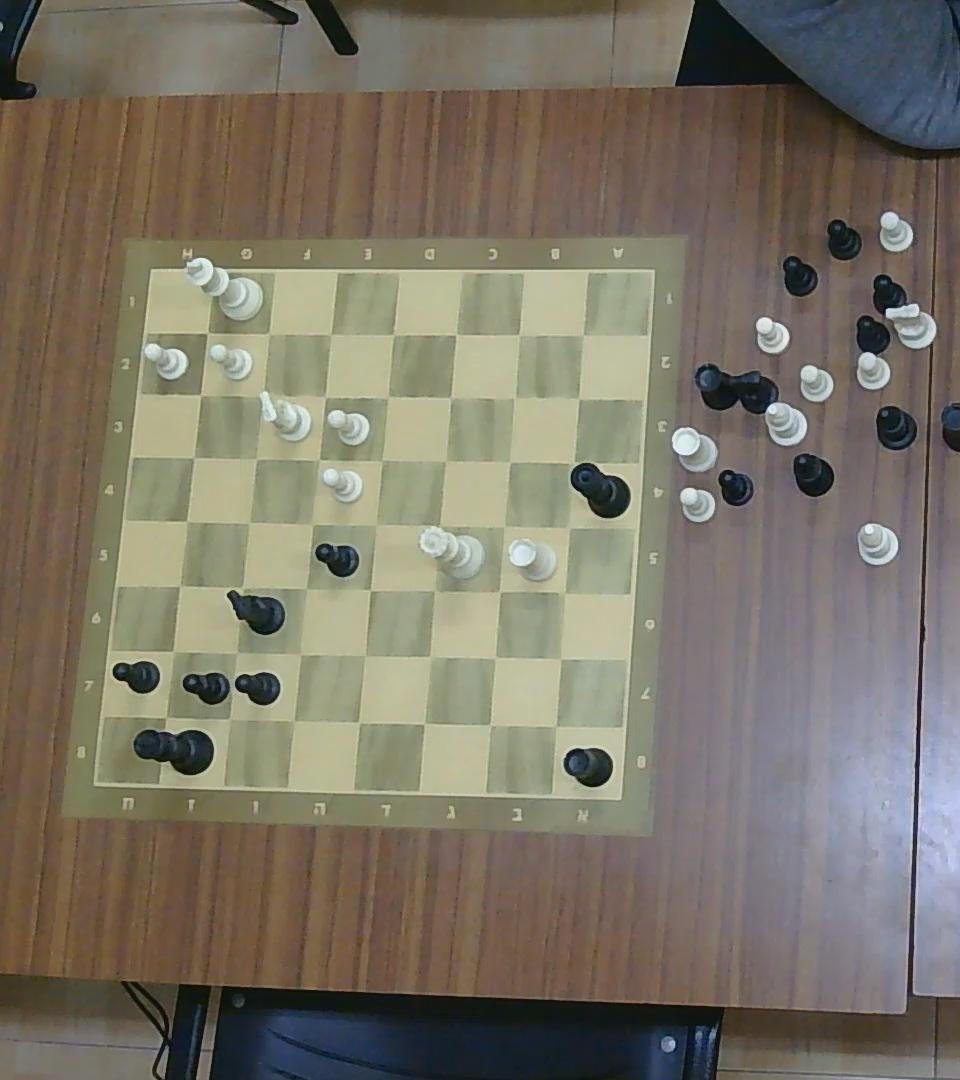xcorner: (542, 713, 569, 740), (279, 706, 305, 734), (215, 705, 241, 732), (411, 710, 437, 737), (547, 644, 573, 671), (417, 642, 443, 669), (153, 702, 179, 728), (477, 712, 503, 738), (352, 641, 377, 668), (379, 320, 404, 347), (486, 578, 511, 605), (369, 447, 394, 473), (167, 572, 192, 598), (425, 513, 450, 539), (346, 709, 371, 734), (481, 645, 506, 670), (558, 448, 583, 473), (375, 383, 399, 409), (174, 508, 198, 534), (421, 577, 445, 603), (491, 513, 515, 539), (557, 513, 581, 539), (288, 639, 311, 666), (358, 576, 382, 601), (552, 579, 576, 604), (229, 574, 253, 599), (196, 319, 219, 345), (162, 638, 185, 664), (224, 640, 247, 665), (438, 385, 461, 410), (318, 321, 341, 346), (236, 510, 259, 535), (444, 321, 467, 346), (294, 576, 317, 601), (245, 445, 268, 469), (364, 512, 387, 536), (257, 320, 280, 344), (188, 381, 211, 405), (250, 381, 273, 405), (498, 448, 520, 473), (300, 511, 323, 534), (306, 447, 329, 470), (508, 322, 531, 345), (182, 445, 204, 469), (433, 448, 455, 472), (313, 384, 335, 408), (503, 386, 525, 409), (571, 322, 593, 345), (567, 387, 588, 409)
